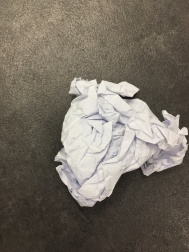paper_white: (37, 64, 189, 214)
